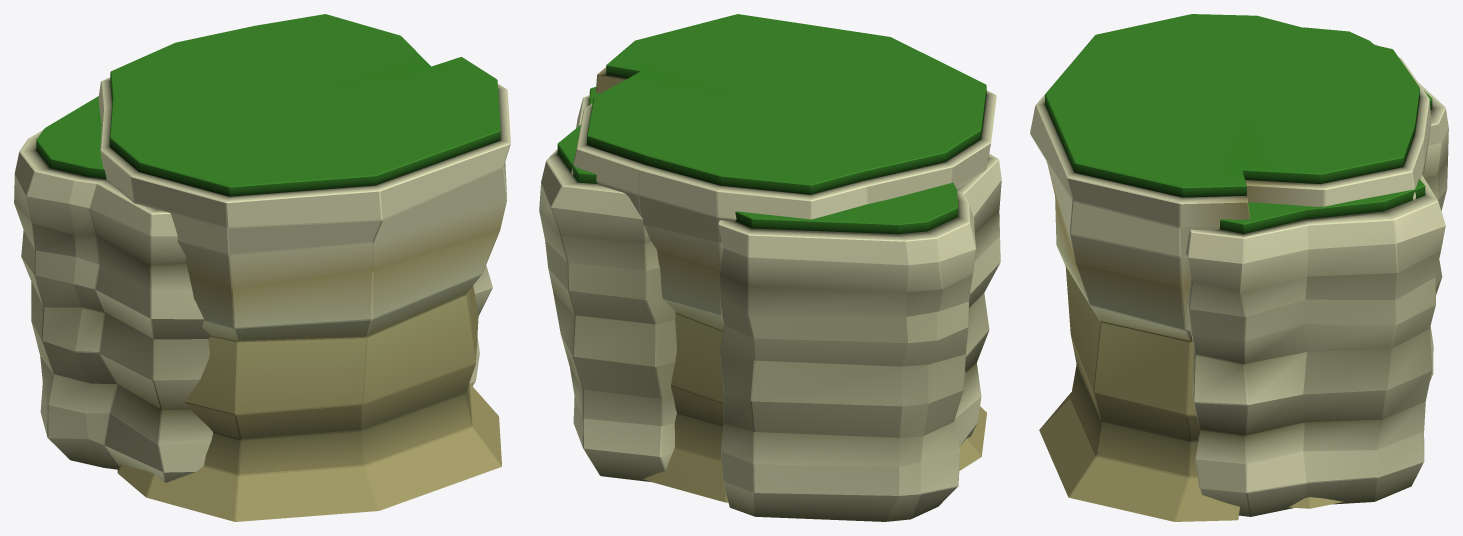
File: decoIslands.fbx
3 renders of one model, left to right at view 1: azimuth 30°, elevation 25°; view 2: azimuth 150°, elevation 25°; view 3: azimuth 270°, elevation 25°, orthographic.
Visible parts, largest first — view 1: Cliff1, Cliff2; view 2: Cliff2, Cliff1; view 3: Cliff1, Cliff2.
Part boxes in pixels (<box>): Cliff1: <box>98,14,510,521</box>; Cliff2: <box>14,96,492,482</box>; Cliff2: <box>539,87,1001,521</box>; Cliff1: <box>571,14,996,502</box>; Cliff1: <box>1030,14,1431,521</box>; Cliff2: <box>1186,27,1448,516</box>.
Bounding box in the file's own units: 500 × 369 × 414.
